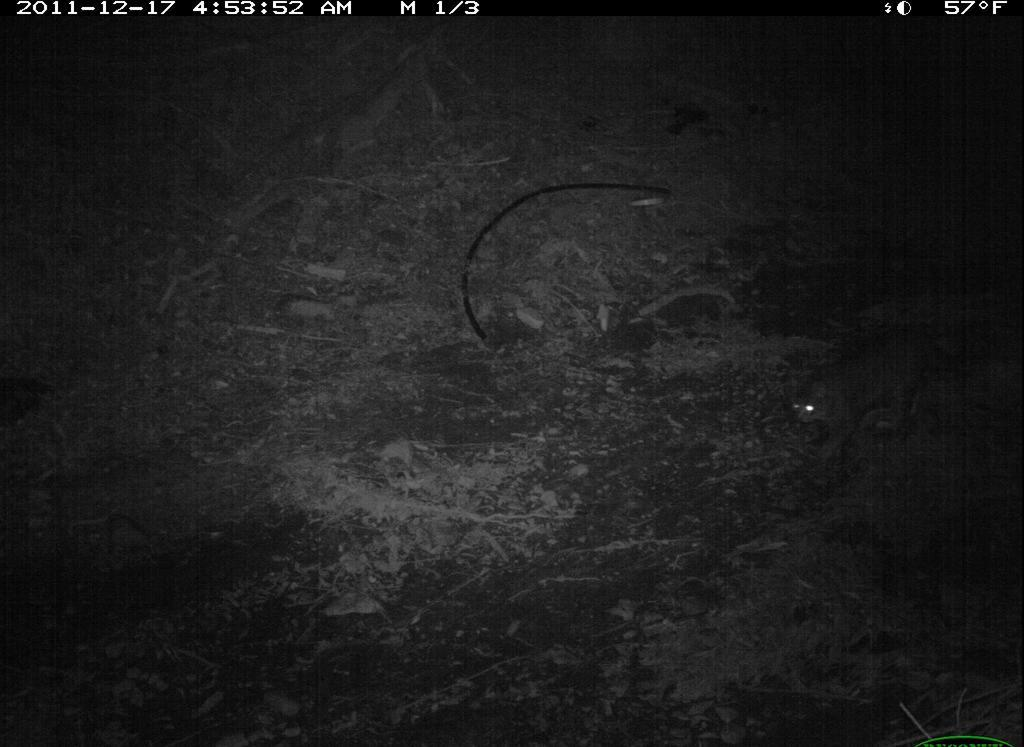cat: (771, 309, 958, 460)
